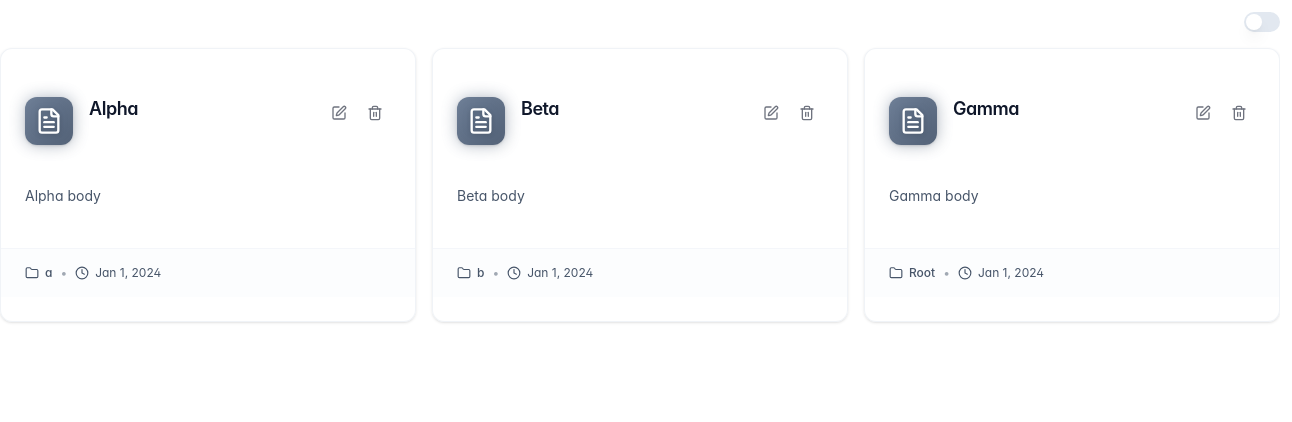
Test: DocumentGrid › multi-select › selects cards, reports the selection and selects or clears all
Click the switch at (1262, 22), box [1244,12,1280,32]
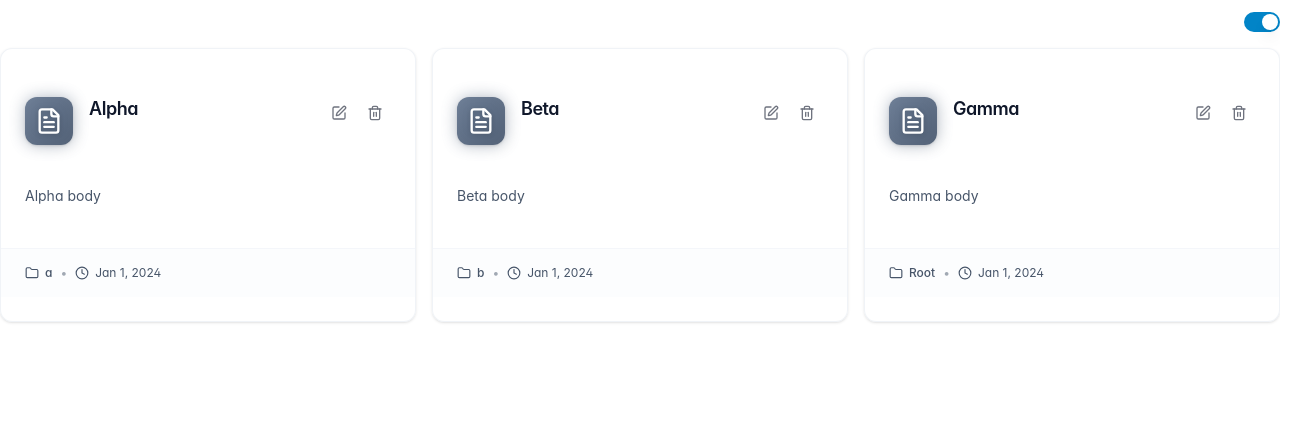
Click the element with test id "document-card" at (208, 185), box [0,48,416,322]
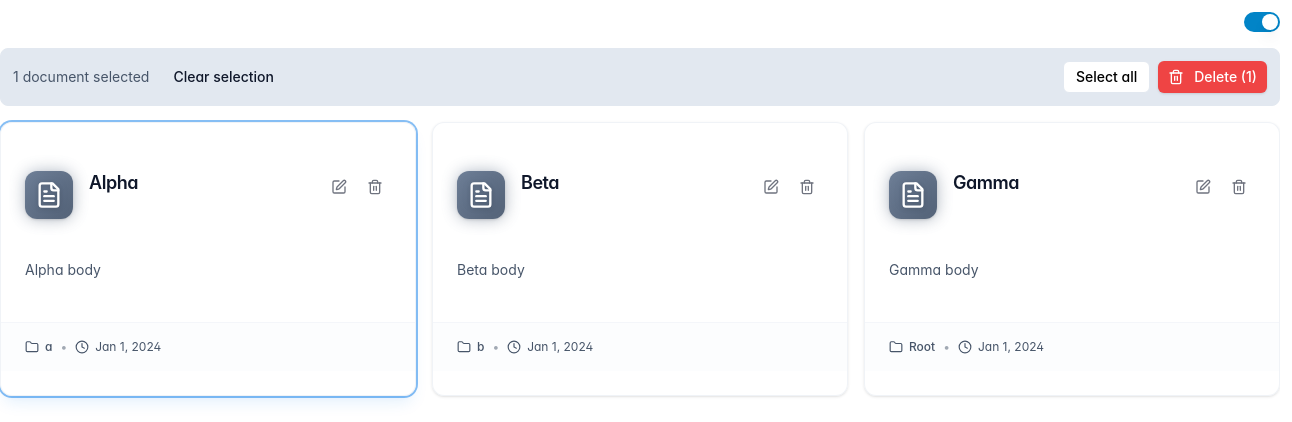
Expected: the text "1 document selected" is shown, [13,67,149,87]
Click the element with test id "document-card" at (640, 259), box [432,122,848,396]
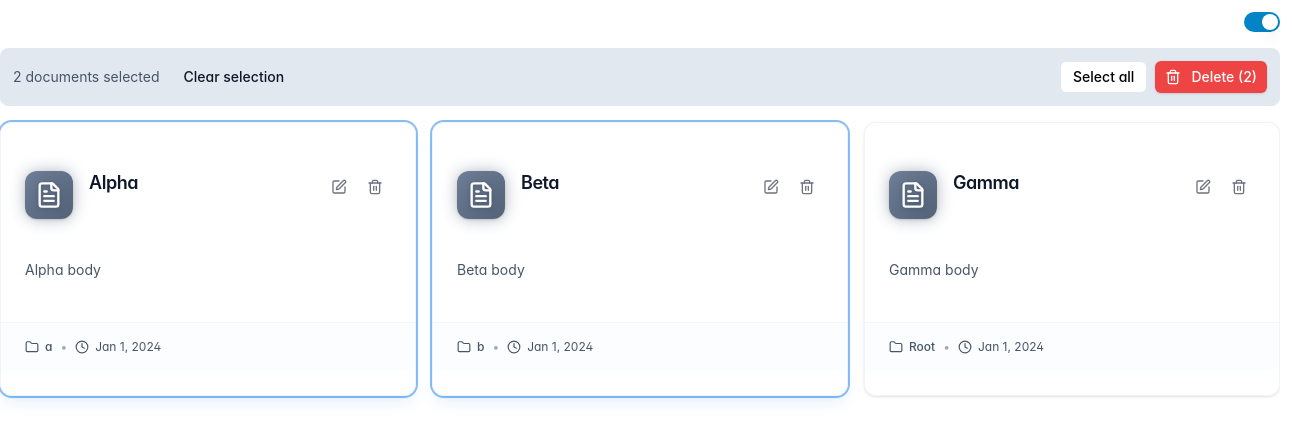
Expected: the text "2 documents selected" is shown, [13,67,160,87]
Click the element with test id "document-card" at (640, 259), box [432,122,848,396]
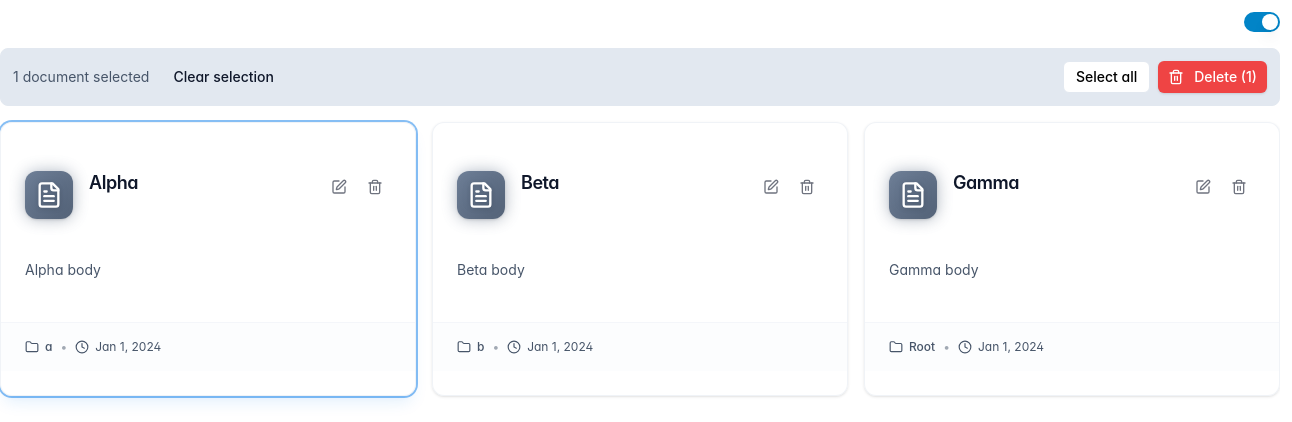
Expected: the text "1 document selected" is shown, [13,67,149,87]
Click the button "Select all" at (1107, 77), box [1063,61,1150,93]
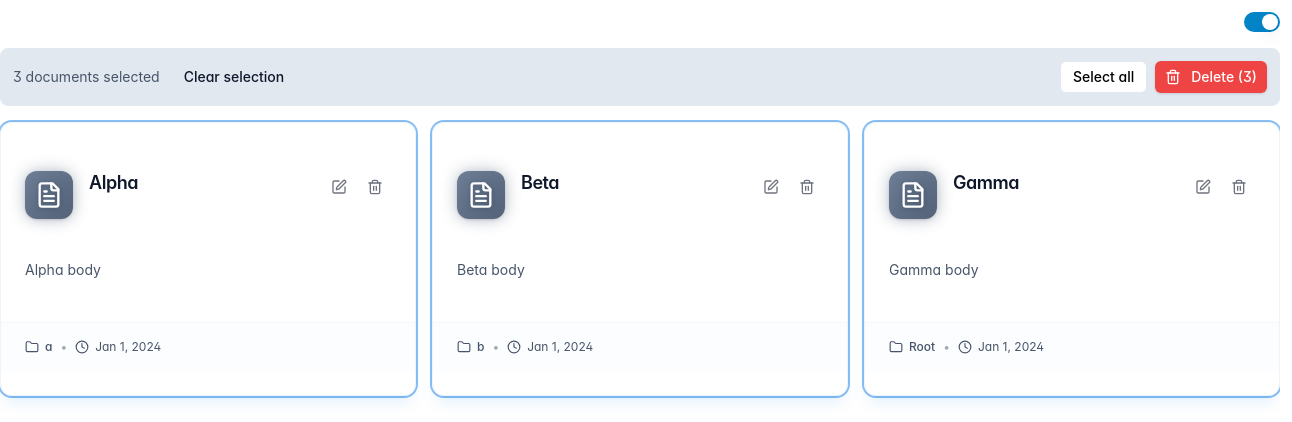
Expected: the text "3 documents selected" is shown, [13,67,160,87]
Click the button "Clear selection" at (234, 77), box [172,61,296,93]
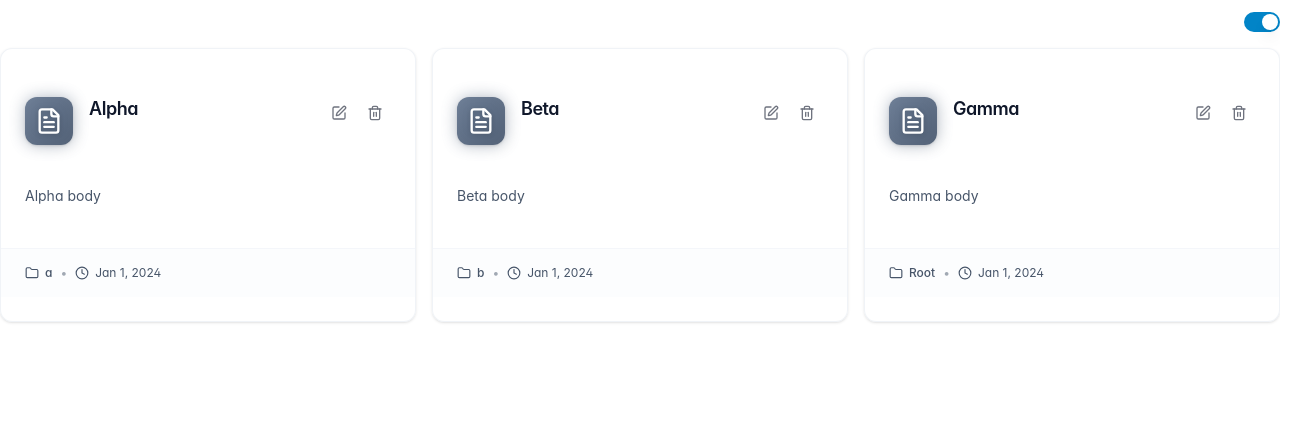
Expected: the text "selected" is gone
